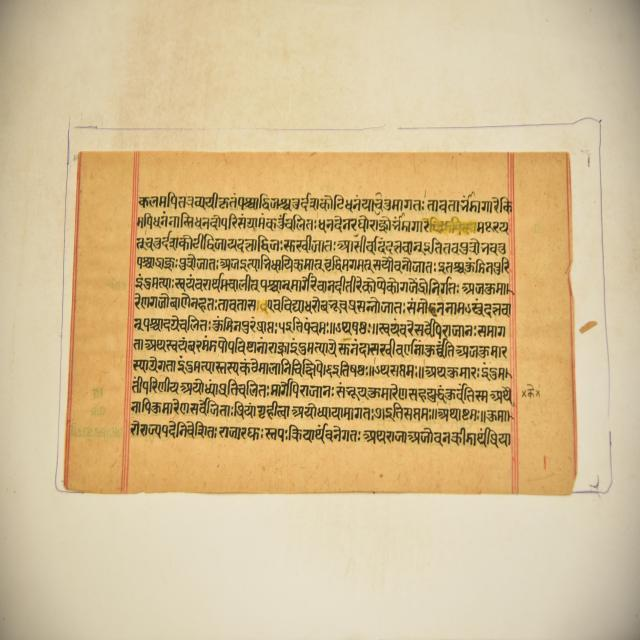text_paragraph: (61, 150, 575, 491)
